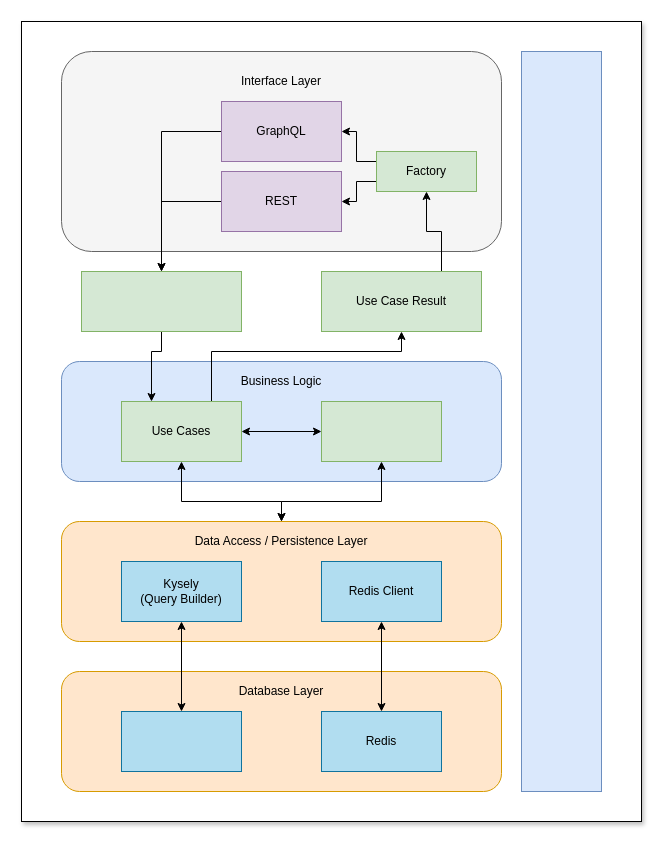
Image size: 665x846. Some labels were removed from this diagram. Each missing label, with the centre of its shape:
DTO (Data Transfer Objects): the point at 161,301
Postgres: the point at 181,741
prisma-kysely generated types: the point at 561,421
Services: the point at 381,431
